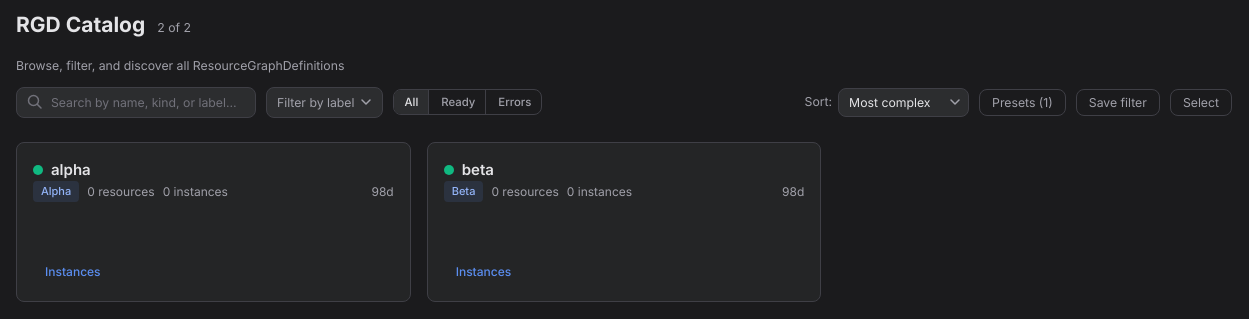
Test case: Catalog filter presets › applies a saved preset (restores all filter fields)
Expected: the element with test id "catalog-card-alpha" is shown, [16, 142, 411, 302]
# Open presets
Click the button with test id "catalog-presets-toggle". click: (1022, 102)
box: [979, 89, 1066, 116]
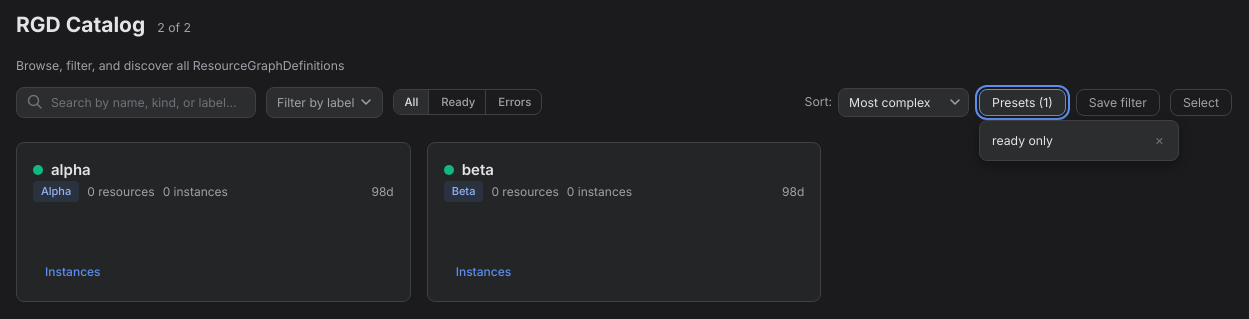
# Click apply
Click the button with test id "catalog-preset-apply-p1". click: (1064, 140)
box: [984, 127, 1145, 154]
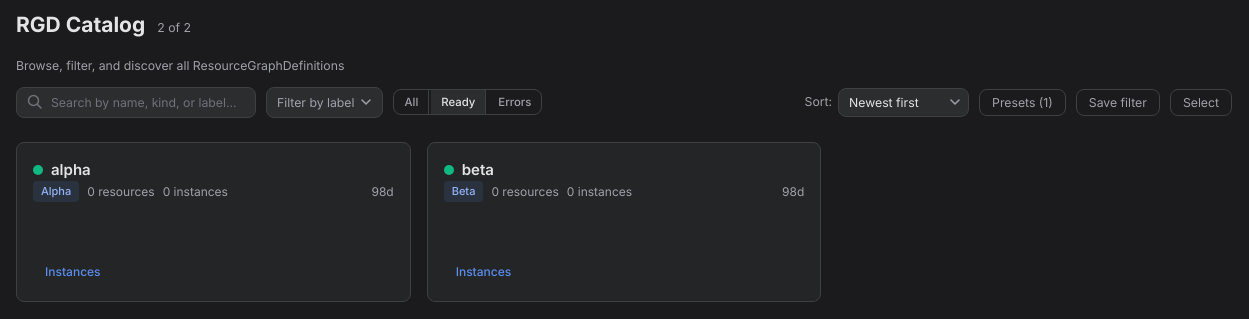
Expected: the list with test id "catalog-presets-dropdown" is gone
